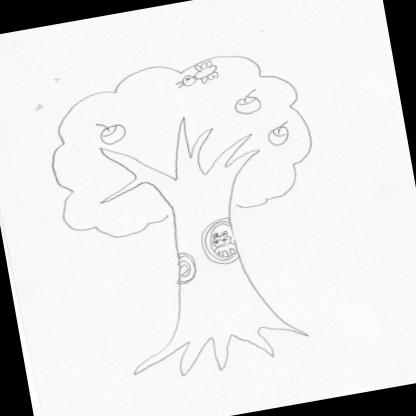apple: (94, 117, 130, 146), (230, 86, 263, 116), (266, 120, 295, 147)
bird: (172, 60, 221, 90)
branch_sharp: (86, 106, 264, 205)
crown_cloud: (37, 42, 322, 245)
knot: (172, 251, 198, 284)
root_only: (128, 314, 310, 384)
trunk_straight: (165, 216, 261, 309)
